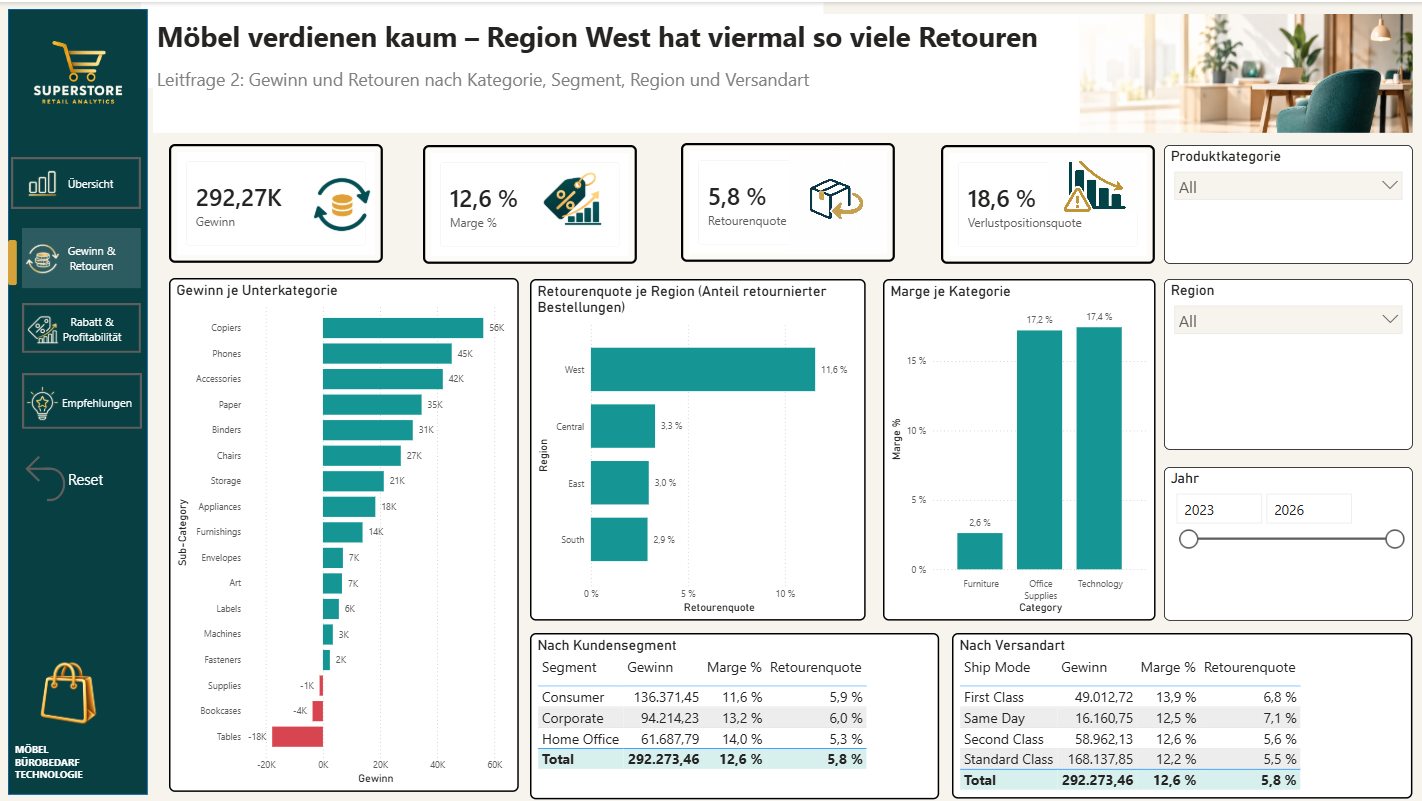

Layout of this report page (visuals, bound fields, positions):
{"tool":"powerbi","page":{"name":"Gewinn & Retouren","canvas":[1920,1080],"ordinal":1},"visuals":[{"type":"textbox","box":[190.8,0,918.7,116.3],"z":0},{"type":"clusteredBarChart","title":"Gewinn je Unterkategorie","fields":{"Category":["Dim_Produkt.First(Sub-Category)"],"Y":["_Kennzahlen1.Gewinn"]},"box":[229.2,371.8,471.2,692.4],"z":1000},{"type":"clusteredColumnChart","title":"Marge je Kategorie  ","fields":{"Category":["Dim_Produkt.First(Category)"],"Y":["_Kennzahlen1.Marge %"]},"box":[1190.8,373.4,367,460],"z":2000},{"type":"clusteredBarChart","title":"Retourenquote je Region (Anteil retournierter Bestellungen)","fields":{"Category":["Dim_Region.Region"],"Y":["_Kennzahlen1.Retourenquote"]},"box":[714.8,373.4,452,460],"z":3000},{"type":"tableEx","title":"Nach Kundensegment","fields":{"Values":["Dim_Kunde.First(Segment)","_Kennzahlen1.Gewinn","_Kennzahlen1.Marge %","_Kennzahlen1.Retourenquote"]},"box":[714.8,849.4,551.3,224.4],"z":4000},{"type":"tableEx","title":"Nach Versandart","fields":{"Values":["Fakt_Verkauf.Ship Mode","_Kennzahlen1.Gewinn","_Kennzahlen1.Marge %","_Kennzahlen1.Retourenquote"]},"box":[1283.7,849.4,620.2,222.8],"z":5000},{"type":"shape","box":[12,10,188,1058],"z":6000},{"type":"image","box":[12.1,10.8,188.5,162.9],"z":7000},{"type":"shape","box":[12.1,204.7,188.5,80.8],"z":8000},{"type":"image","box":[31,208.7,55.2,70],"z":9000},{"type":"shape","box":[12,320,12,61],"z":10000},{"type":"shape","box":[12.1,400,188.5,80.8],"z":11000},{"type":"image","box":[31,405.3,55,70],"z":12000},{"type":"shape","box":[12.1,499.6,188.5,80.8],"z":13000},{"type":"image","box":[31,505,55,70],"z":14000},{"type":"image","box":[18.9,879.4,148.1,101],"z":15000},{"type":"textbox","box":[16,992,192,80],"z":16000},{"type":"textbox","box":[208,16,1248,160],"z":17000},{"type":"image","box":[1456,16,448,160],"z":18000},{"type":"shape","box":[31,304.3,160.2,80.8],"z":19000},{"type":"image","box":[31,309.7,55,70],"z":20000},{"type":"cardVisual","fields":{"Data":["Kennzahlen.Gewinn"]},"box":[228.4,191.5,288.5,160.3],"z":21000},{"type":"image","box":[404.7,217.2,112.2,112.2],"z":22000},{"type":"cardVisual","fields":{"Data":["Kennzahlen.Marge %"]},"box":[570.8,192.3,288,160],"z":23000},{"type":"image","box":[682.8,208.3,176,112],"z":24000},{"type":"cardVisual","fields":{"Data":["Kennzahlen.Retourenquote"]},"box":[919,190.3,288,160],"z":25000},{"type":"image","box":[1063.4,200.3,128.2,134.6],"z":26000},{"type":"cardVisual","fields":{"Data":["Kennzahlen.Verlustpositionsquote"]},"box":[1268.5,192.3,288.5,160.3],"z":27000},{"type":"image","box":[1412.8,212.4,126.6,70.5],"z":28000},{"type":"slicer","title":"Produktkategorie","fields":{"Values":["Dim_Produkt.First(Category)"]},"box":[1569,192.3,335,160.3],"z":29000},{"type":"slicer","title":"Jahr","fields":{"Values":["Dim_Date.Jahr"]},"box":[1568.8,626.2,335.3,207.4],"z":30000},{"type":"slicer","title":"Region","fields":{"Values":["Dim_Region.Region"]},"box":[1568.8,373,335.3,230.3],"z":31000},{"type":"actionButton","box":[16.2,208.7,175.1,70],"z":31001},{"type":"actionButton","box":[31,405.3,160.2,67.3],"z":31002},{"type":"actionButton","box":[31,499.6,161.6,75.4],"z":31003},{"type":"actionButton","box":[24.2,603.3,167,76.8],"z":31004}]}

Visuals, with their boxes on the page's 1920x1080 design canvas (x1, y1, x2, y2). These are canvas units, not pixel positions in the 1422x801 screenshot, which may show the page scaled, cropped or inside an application window:
textbox: left=191, top=0, right=1110, bottom=116
"Gewinn je Unterkategorie" clusteredBarChart: left=229, top=372, right=700, bottom=1064
"Marge je Kategorie  " clusteredColumnChart: left=1191, top=373, right=1558, bottom=833
"Retourenquote je Region (Anteil retournierter Bestellungen)" clusteredBarChart: left=715, top=373, right=1167, bottom=833
"Nach Kundensegment" tableEx: left=715, top=849, right=1266, bottom=1074
"Nach Versandart" tableEx: left=1284, top=849, right=1904, bottom=1072
shape: left=12, top=10, right=200, bottom=1068
image: left=12, top=11, right=201, bottom=174
shape: left=12, top=205, right=201, bottom=286
image: left=31, top=209, right=86, bottom=279
shape: left=12, top=320, right=24, bottom=381
shape: left=12, top=400, right=201, bottom=481
image: left=31, top=405, right=86, bottom=475
shape: left=12, top=500, right=201, bottom=580
image: left=31, top=505, right=86, bottom=575
image: left=19, top=879, right=167, bottom=980
textbox: left=16, top=992, right=208, bottom=1072
textbox: left=208, top=16, right=1456, bottom=176
image: left=1456, top=16, right=1904, bottom=176
shape: left=31, top=304, right=191, bottom=385
image: left=31, top=310, right=86, bottom=380
cardVisual - Kennzahlen.Gewinn: left=228, top=192, right=517, bottom=352
image: left=405, top=217, right=517, bottom=329
cardVisual - Kennzahlen.Marge %: left=571, top=192, right=859, bottom=352
image: left=683, top=208, right=859, bottom=320
cardVisual - Kennzahlen.Retourenquote: left=919, top=190, right=1207, bottom=350
image: left=1063, top=200, right=1192, bottom=335
cardVisual - Kennzahlen.Verlustpositionsquote: left=1268, top=192, right=1557, bottom=353
image: left=1413, top=212, right=1539, bottom=283
"Produktkategorie" slicer: left=1569, top=192, right=1904, bottom=353
"Jahr" slicer: left=1569, top=626, right=1904, bottom=834
"Region" slicer: left=1569, top=373, right=1904, bottom=603
actionButton: left=16, top=209, right=191, bottom=279
actionButton: left=31, top=405, right=191, bottom=473
actionButton: left=31, top=500, right=193, bottom=575
actionButton: left=24, top=603, right=191, bottom=680
